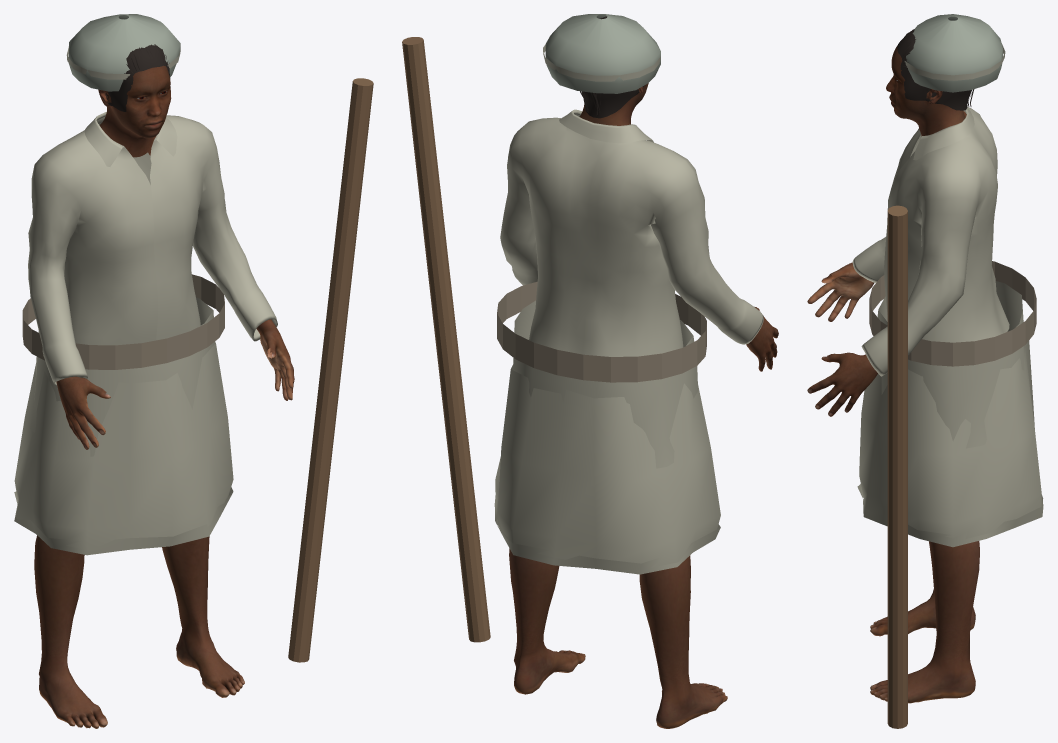
Rendered from burkundaz.glb.
3 views of the same model, side by side, from view 1: azimuth 30°, elevation 25°; view 2: azimuth 150°, elevation 25°; view 3: azimuth 270°, elevation 25° (orthographic). The views are drawn at different scales.
Parts seen in each view (by area): view 1: Fitted cotton upper base_static_preview, Knee length wrapped dhoti_static_preview, village_farmer_MakeHuman_body_static_preview, Wooden watch staff, Soft cotton head wrap_static_preview, Burkundaz waist sash, Kurta loose lower panel_static_preview, Dhoti woven border_static_preview, Farmer_hair_static_preview; view 2: Fitted cotton upper base_static_preview, Knee length wrapped dhoti_static_preview, village_farmer_MakeHuman_body_static_preview, Wooden watch staff, Burkundaz waist sash, Soft cotton head wrap_static_preview, Kurta loose lower panel_static_preview, Dhoti woven border_static_preview, Farmer_hair_static_preview, Head wrap fold_static_preview; view 3: Fitted cotton upper base_static_preview, Knee length wrapped dhoti_static_preview, village_farmer_MakeHuman_body_static_preview, Wooden watch staff, Kurta loose lower panel_static_preview, Soft cotton head wrap_static_preview, Burkundaz waist sash, Dhoti woven border_static_preview, Farmer_hair_static_preview, Head wrap fold_static_preview.
Part boxes in pixels (box(x1,y1,x2,y2)): Fitted cotton upper base_static_preview: box(28, 111, 277, 386); Knee length wrapped dhoti_static_preview: box(14, 342, 233, 549); village_farmer_MakeHuman_body_static_preview: box(34, 65, 294, 728); Wooden watch staff: box(288, 78, 373, 662); Soft cotton head wrap_static_preview: box(68, 14, 180, 91); Burkundaz waist sash: box(22, 274, 224, 369); Kurta loose lower panel_static_preview: box(30, 297, 215, 456); Dhoti woven border_static_preview: box(14, 487, 233, 555); Farmer_hair_static_preview: box(105, 44, 170, 111); Fitted cotton upper base_static_preview: box(500, 109, 763, 356); Knee length wrapped dhoti_static_preview: box(495, 364, 720, 567); village_farmer_MakeHuman_body_static_preview: box(509, 83, 778, 728); Wooden watch staff: box(402, 37, 490, 642); Burkundaz waist sash: box(497, 281, 706, 382); Soft cotton head wrap_static_preview: box(545, 14, 660, 93); Kurta loose lower panel_static_preview: box(513, 300, 698, 468); Dhoti woven border_static_preview: box(494, 495, 720, 574); Farmer_hair_static_preview: box(580, 16, 645, 118); Head wrap fold_static_preview: box(543, 44, 660, 81); Fitted cotton upper base_static_preview: box(852, 107, 1009, 376); Knee length wrapped dhoti_static_preview: box(859, 314, 1041, 538); village_farmer_MakeHuman_body_static_preview: box(807, 45, 979, 703); Wooden watch staff: box(887, 205, 907, 728); Kurta loose lower panel_static_preview: box(877, 281, 1025, 448); Soft cotton head wrap_static_preview: box(906, 14, 1002, 92); Burkundaz waist sash: box(869, 261, 1036, 366); Dhoti woven border_static_preview: box(857, 484, 1043, 547); Farmer_hair_static_preview: box(897, 29, 974, 110); Head wrap fold_static_preview: box(904, 43, 1005, 80).
Size of the model in its own units: 0.8689 by 1.67 by 0.5552.
Materials: 9 (2 with a texture image).
